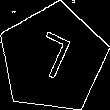L_SW: (29, 29, 77, 88)
